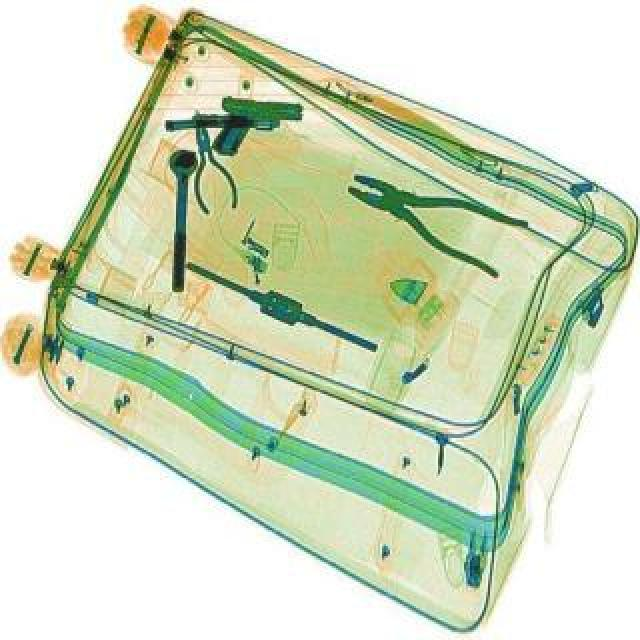gun: (214, 98, 306, 168)
wrench: (338, 152, 530, 286), (176, 108, 244, 218)
